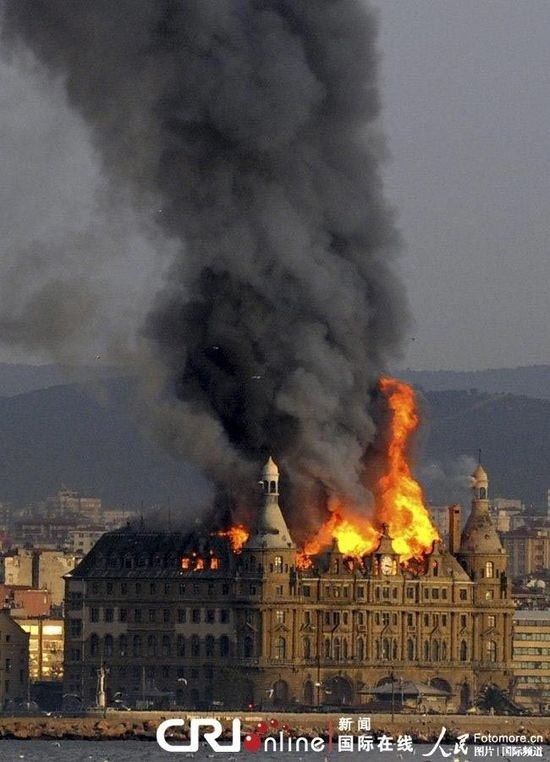fire: (319, 376, 430, 564), (178, 523, 249, 572)
